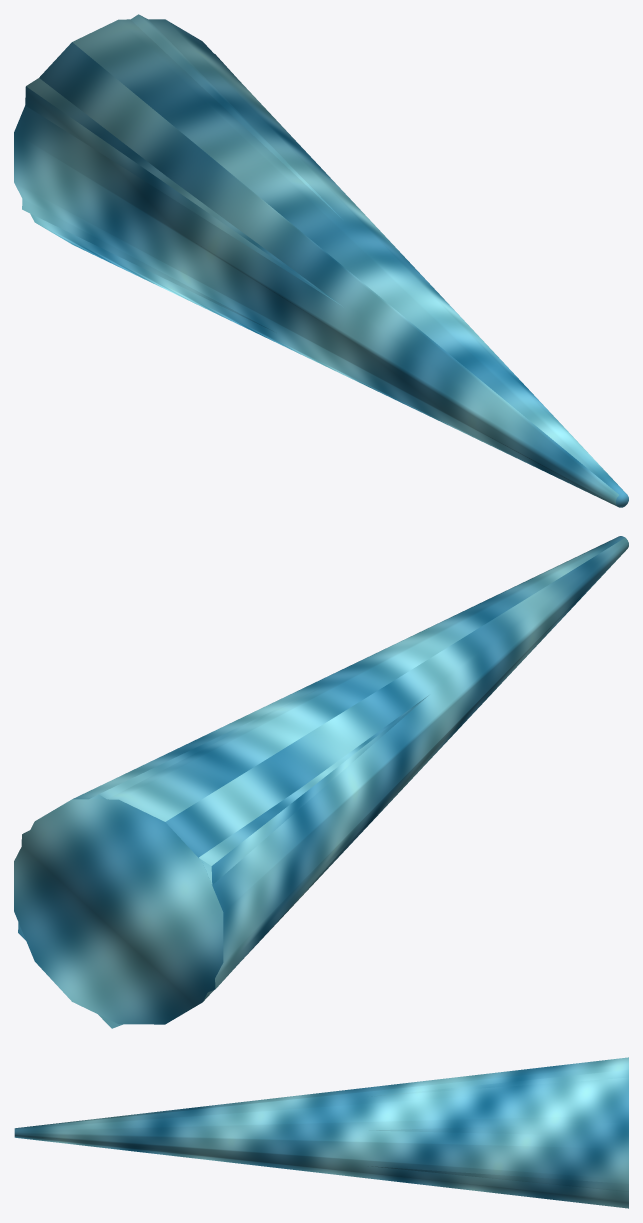
The model's file is cell_spike.fbx.
The picture shows the model from 3 angles, top to bottom: view 1: azimuth 30°, elevation 25°; view 2: azimuth 150°, elevation 25°; view 3: azimuth 270°, elevation 25°; orthographic projection. The views are drawn at different scales.
Visible parts, largest first — view 1: cell_spike_VIS, cell_spike_COL; view 2: cell_spike_VIS, cell_spike_COL; view 3: cell_spike_VIS, cell_spike_COL.
Part boxes in pixels (<box>): cell_spike_VIS: <box>14,19,628,507</box>; cell_spike_COL: <box>22,14,342,331</box>; cell_spike_VIS: <box>14,536,628,1024</box>; cell_spike_COL: <box>18,690,428,1028</box>; cell_spike_VIS: <box>14,1057,628,1208</box>; cell_spike_COL: <box>368,1069,628,1191</box>.
Size of the model in its own units: 15.6 by 16.48 by 65.06.
